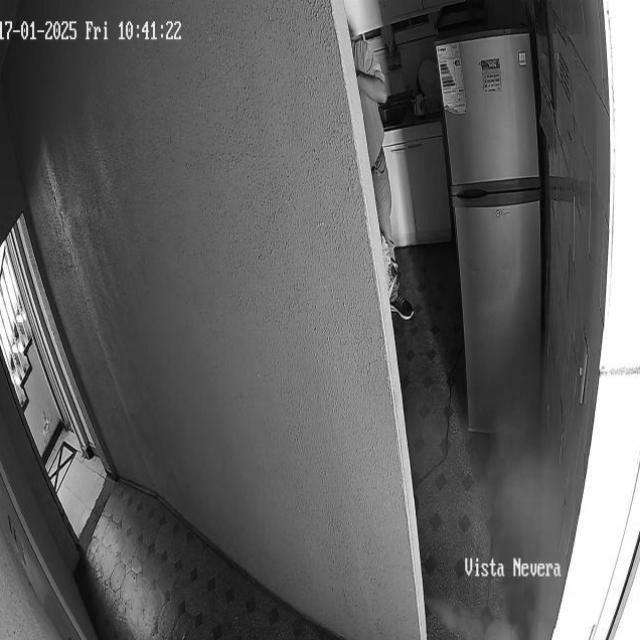fire: (399, 393, 572, 640)
